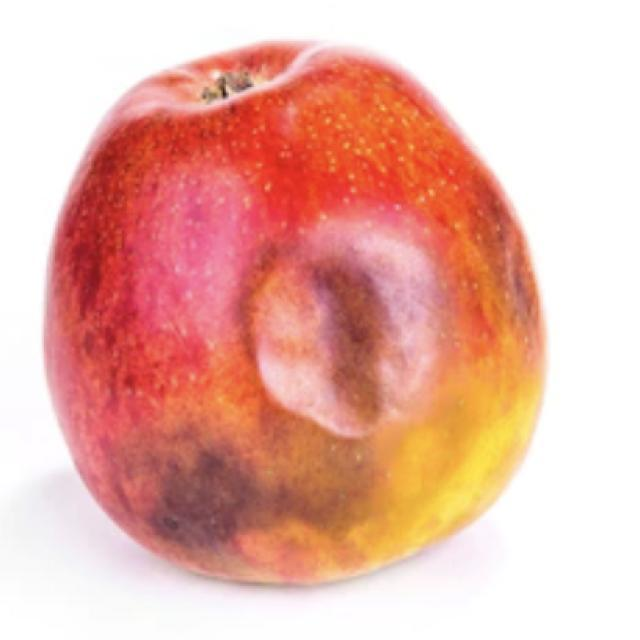Rotten: (100, 58, 517, 557)
